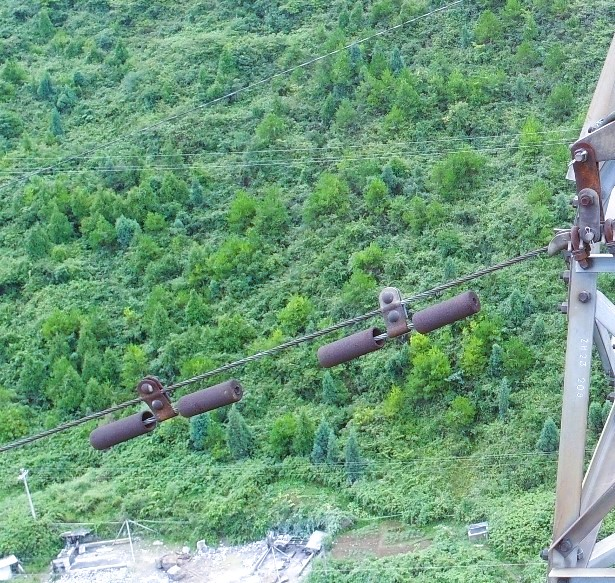Shockproof hammer: (307, 275, 483, 375), (82, 359, 246, 453)
